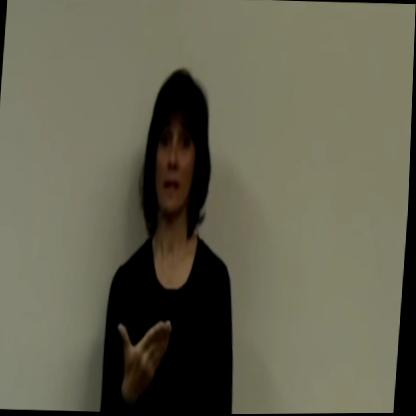ThankYou: (102, 60, 224, 406)
